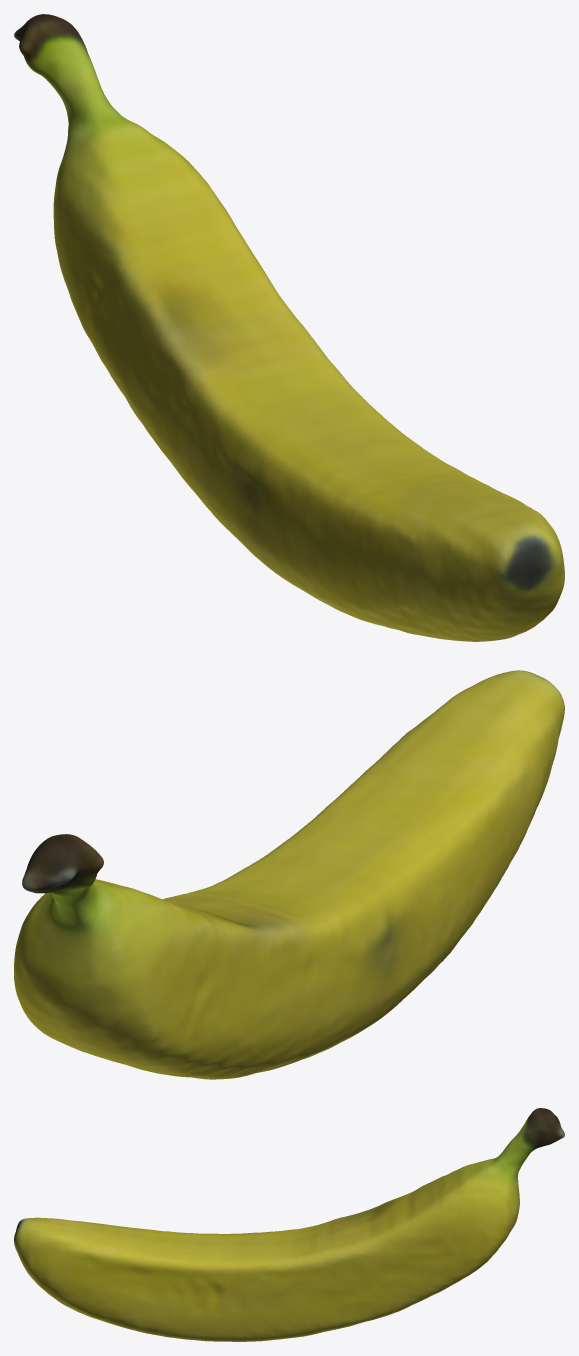
File: bananaHigh.fbx
3 renders of one model, top to bottom at view 1: azimuth 30°, elevation 25°; view 2: azimuth 150°, elevation 25°; view 3: azimuth 270°, elevation 25°, orthographic. The views are drawn at different scales.
Parts seen in each view (by area): view 1: high_poly; view 2: high_poly; view 3: high_poly.
Boxes of the visible parts, x1,y1,x2,y2 form: high_poly: [14, 14, 564, 641]; high_poly: [14, 670, 564, 1079]; high_poly: [14, 1108, 564, 1341].
Size of the model in its own units: 17.52 by 42.59 by 100.
